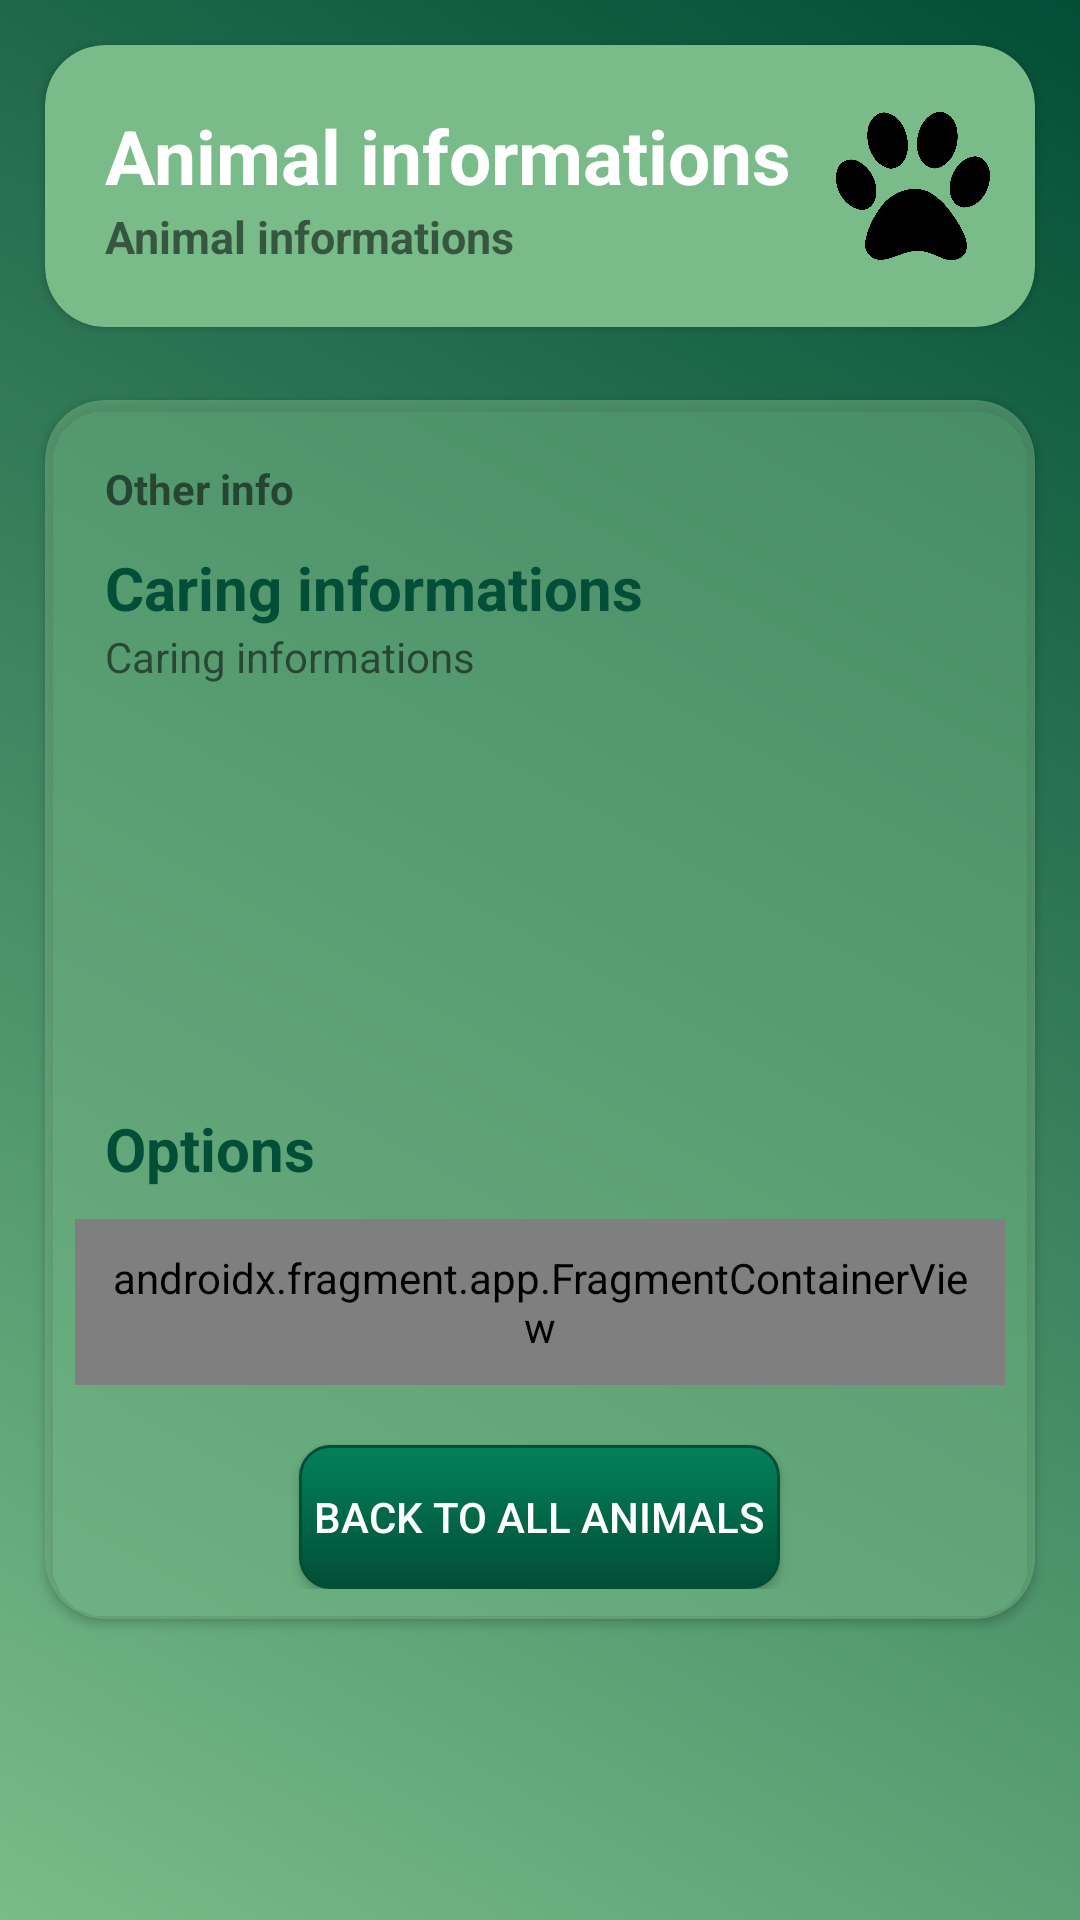

Icons on this 1080×1920 Android screen, each with the point to tap as (x=x, y=y):
paw: (x=913, y=186)
